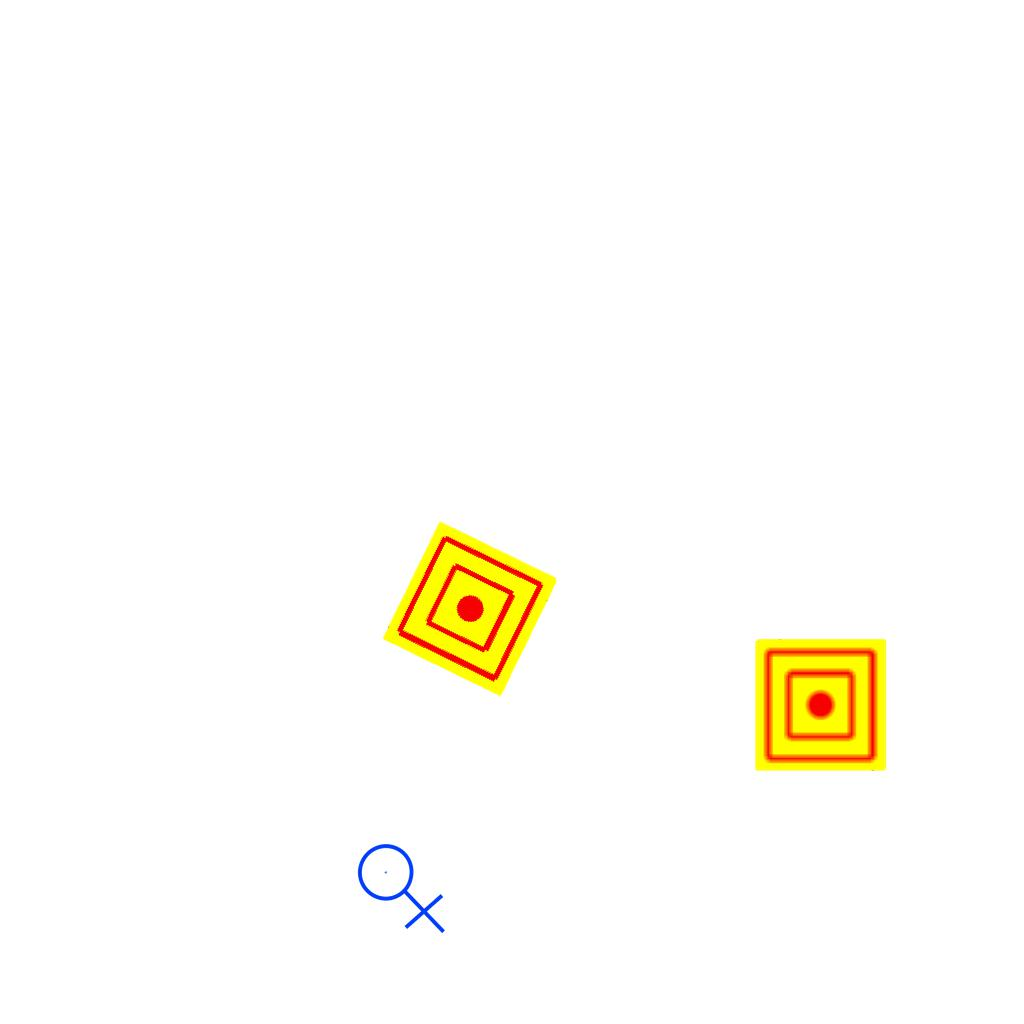Elektroanschluss_allgemein_230V_Geraeteanschlussdose_230V: (356, 835, 450, 934)
NAM-Nichtautomatischer_Melder: (381, 520, 559, 698), (755, 639, 887, 771)
